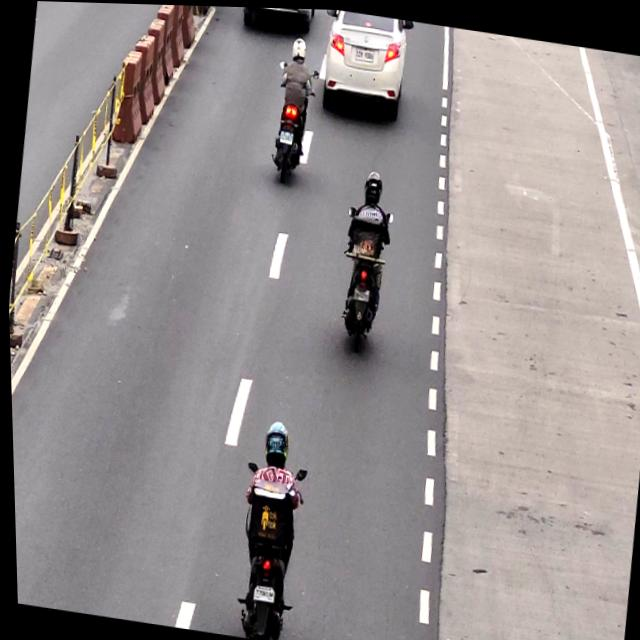Car: (317, 7, 410, 113)
License-Plate: (247, 579, 274, 606), (353, 46, 376, 63), (350, 281, 367, 302), (275, 126, 293, 143)
Motorcycle: (224, 411, 309, 640), (334, 164, 397, 354), (263, 36, 314, 178)
